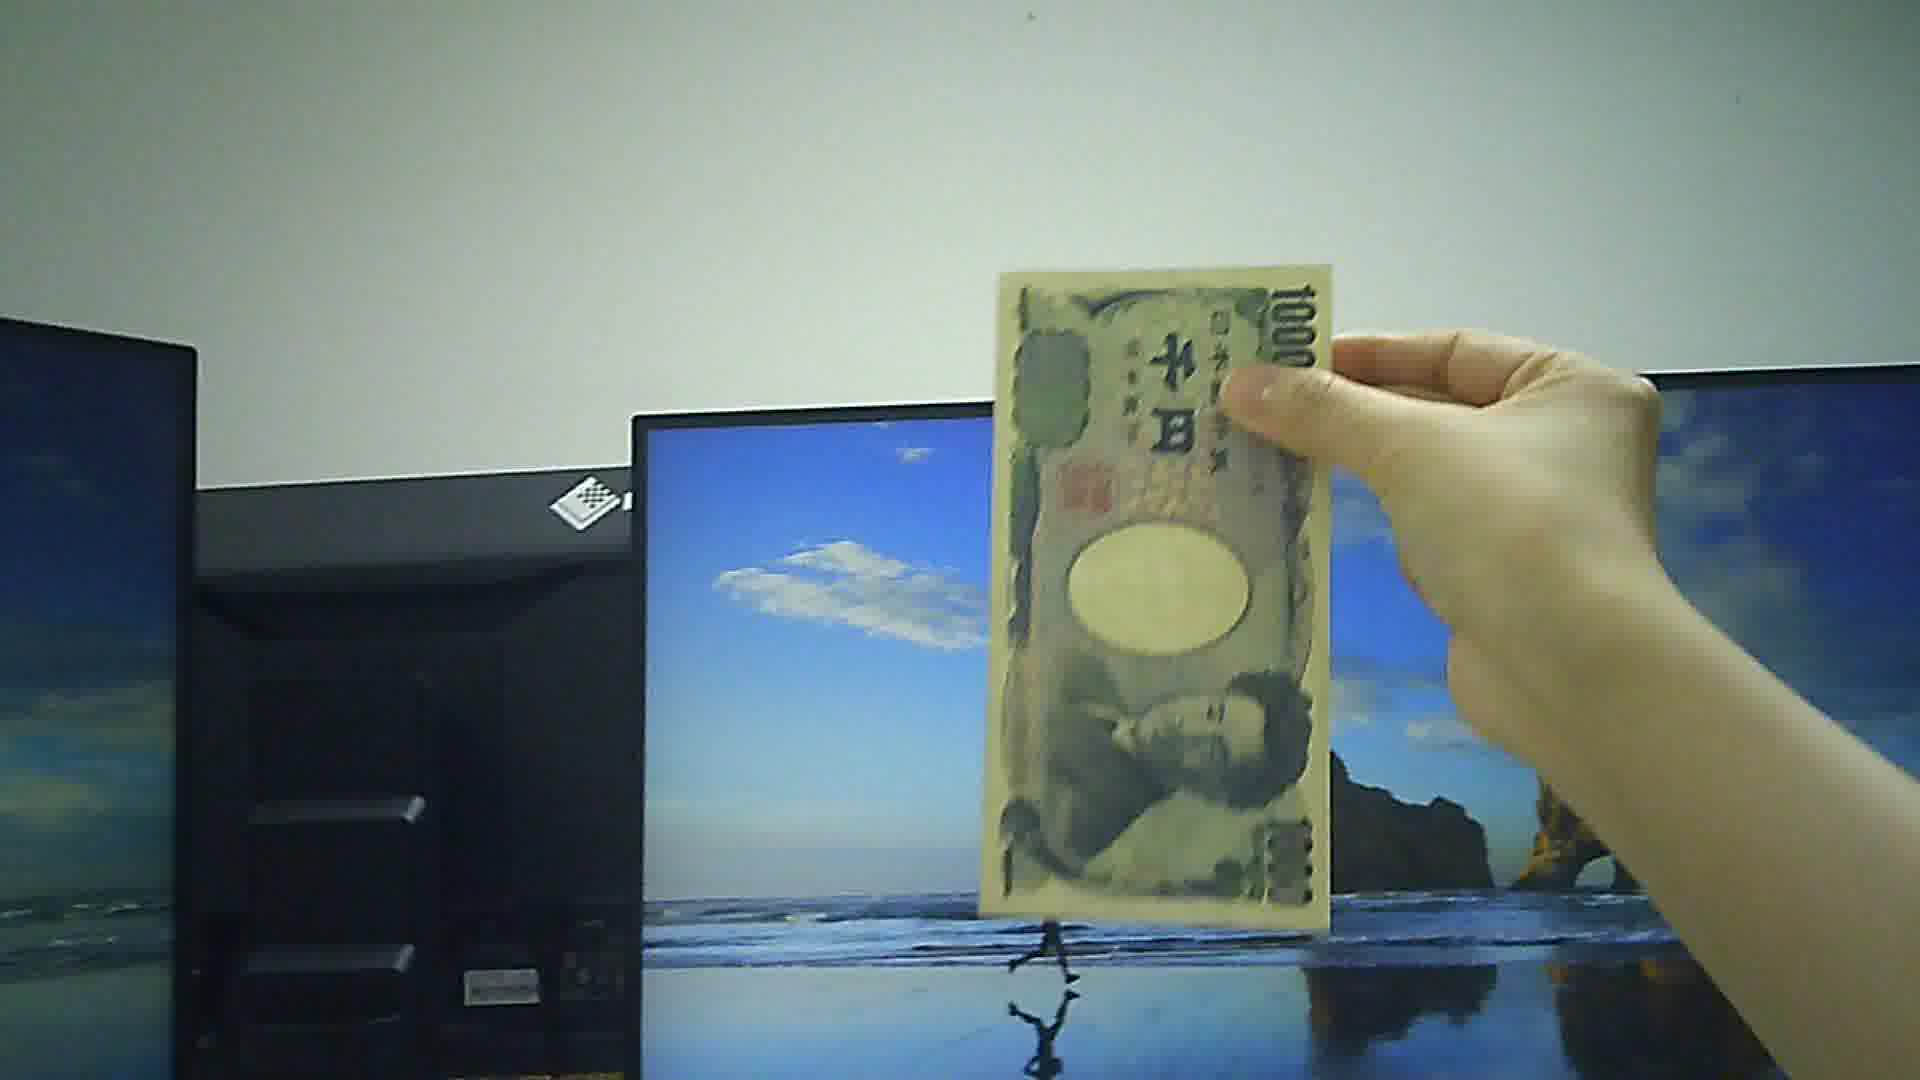1,000 Yen: (986, 257, 1333, 942)
